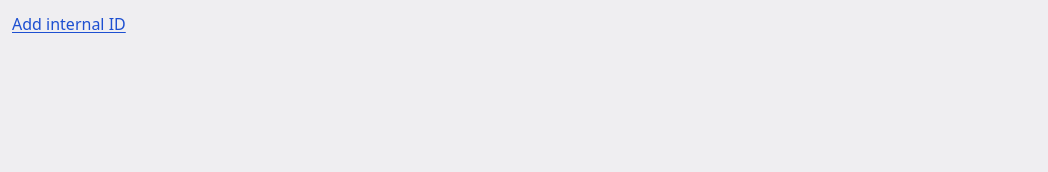
Test case: adds a value in place with Enter
Click the button "Add internal ID" at (69,24), box [12,12,126,36]
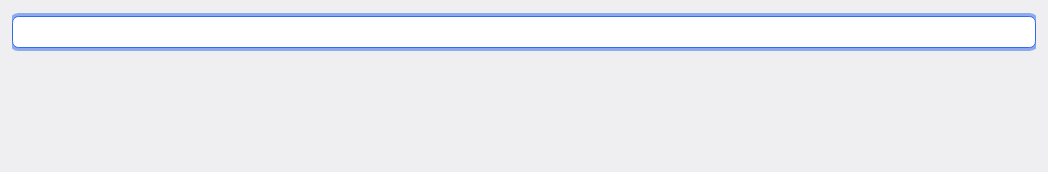
Type "  K-1042 " into the field named "Add internal ID" at (524,32), box [12,16,1036,48]
Then press Enter
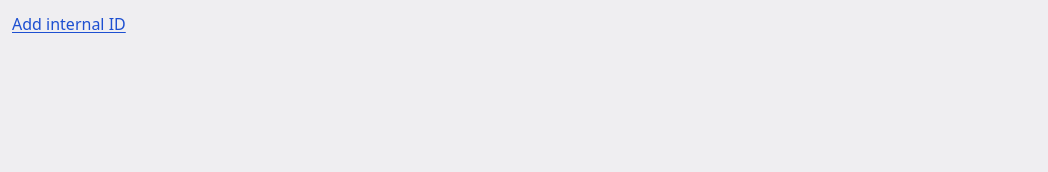
Result: the button "Add internal ID" is shown at [12,12,126,36]
